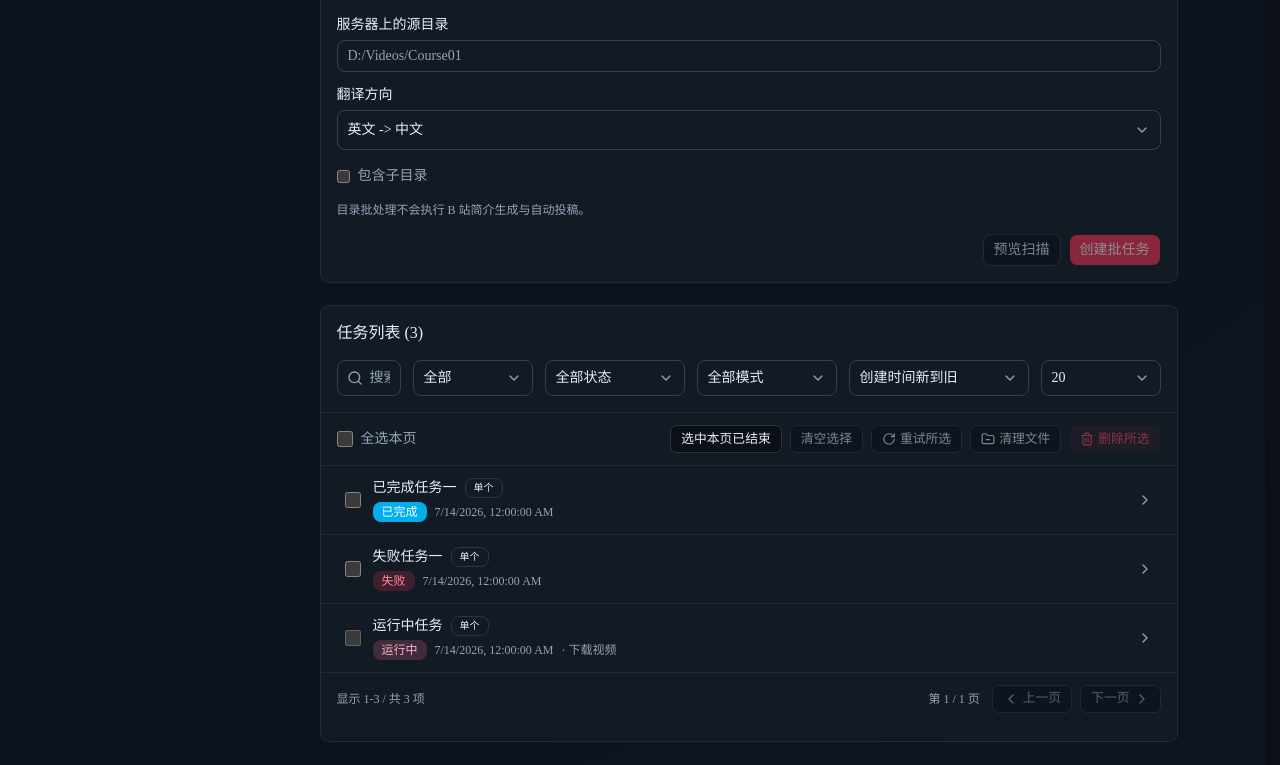
Test: 任务批量删除 › 勾选任务后可批量删除并刷新列表
(page scrolled)
Expected: the text "已完成任务一" is shown, [372,478,456,498]
Click the button "选中本页已结束".
click(726, 439)  # box [670,425,782,453]
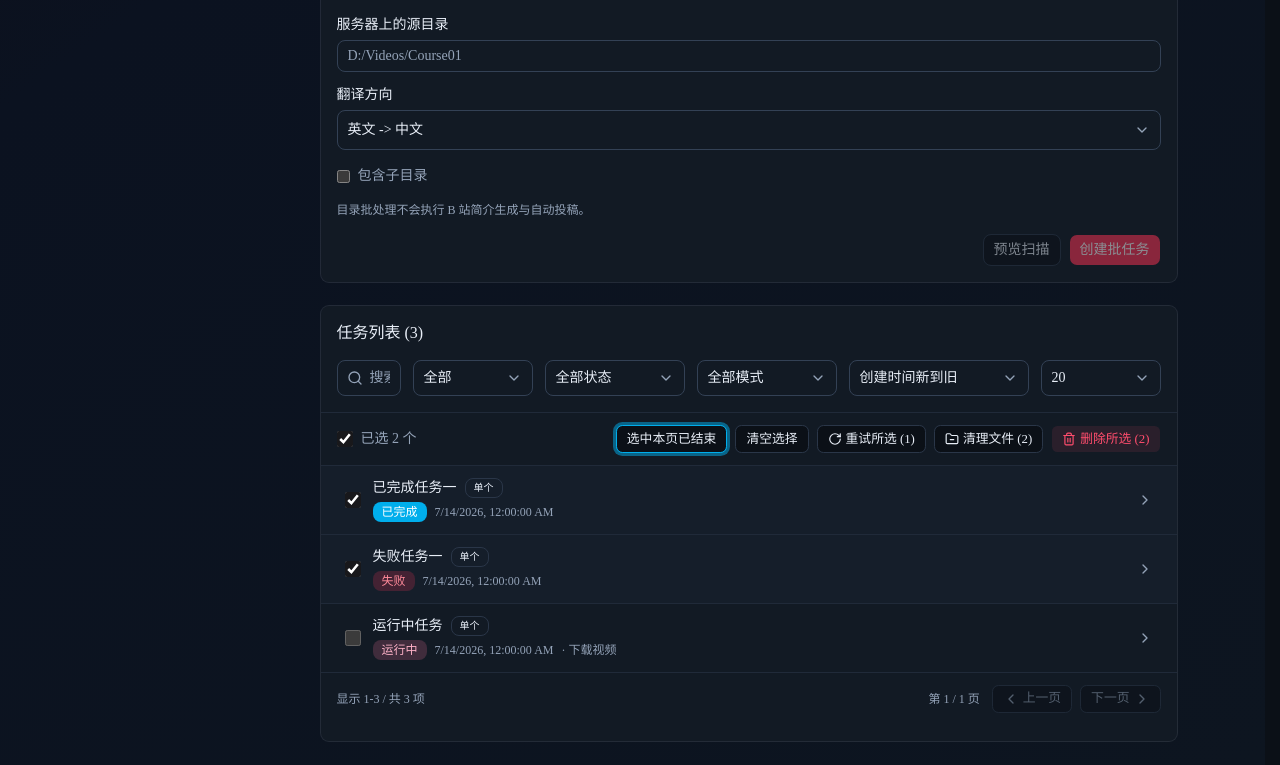
Expected: the checkbox named "选择任务: 运行中任务" is disabled, [344,630,360,646]
Expected: the text "已选 2 个" is shown, [360,429,416,449]
Click the button "删除所选 (2)".
click(1106, 439)  # box [1051,425,1160,453]
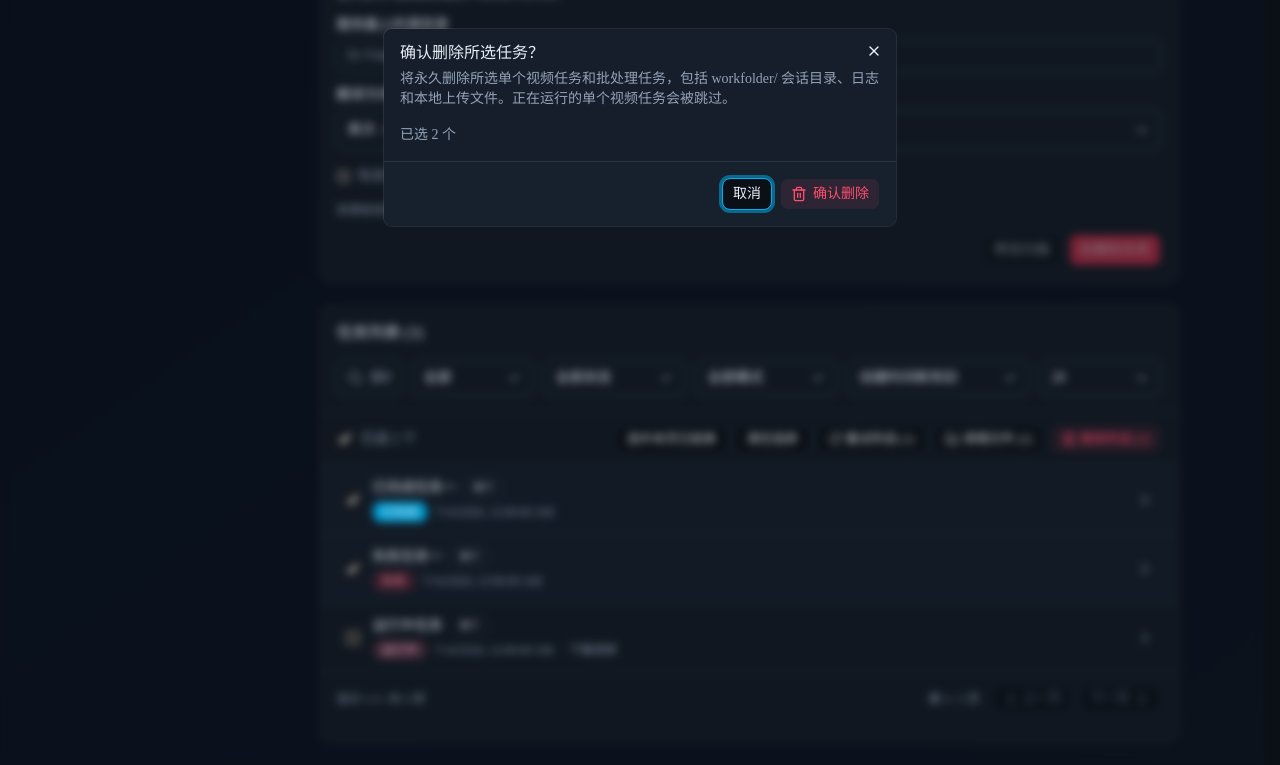
Expected: the heading "确认删除所选任务？" is shown, [400,44,544,61]
Click the button "确认删除".
click(830, 194)  # box [780,178,880,210]
(page scrolled)
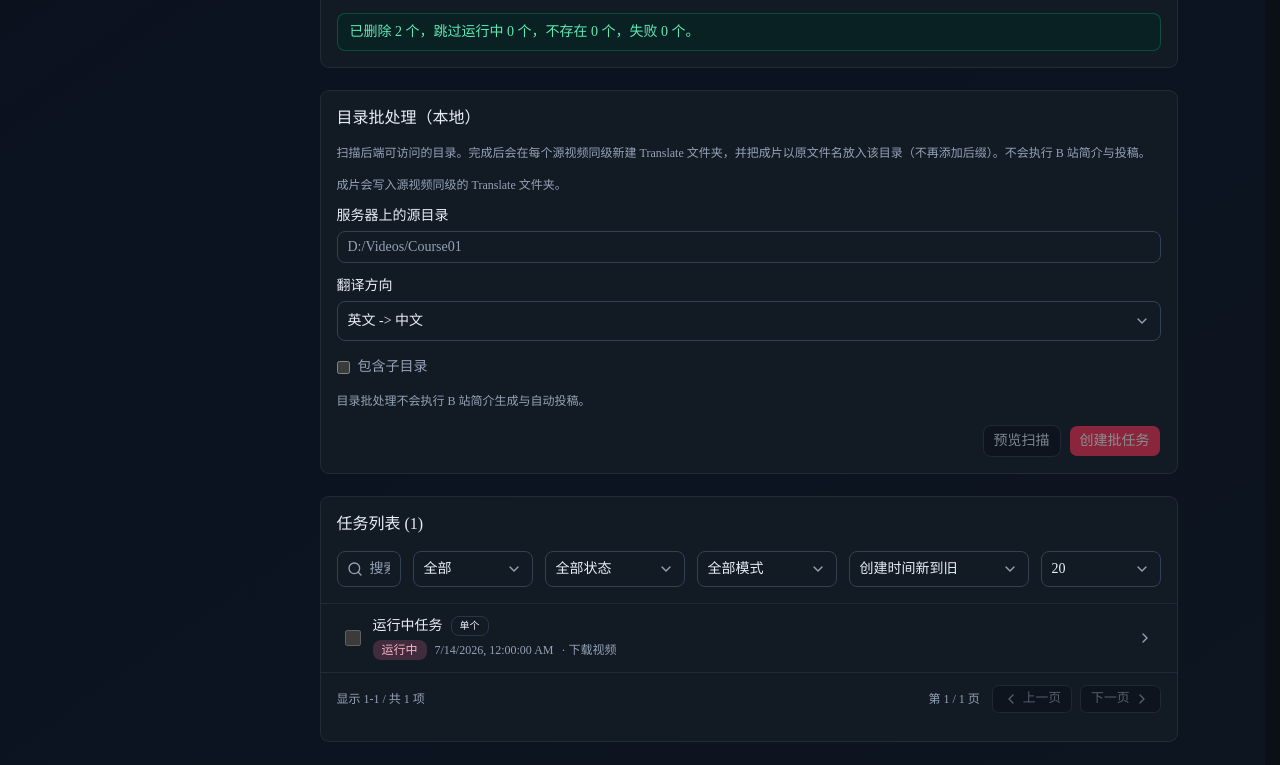
Expected: the text "已删除 2 个，跳过运行中 0 个，不存在 0 个，失败 0 个。" is shown, [336,13,1160,51]
Expected: the link "已完成任务一" is gone
Expected: the link "失败任务一" is gone
